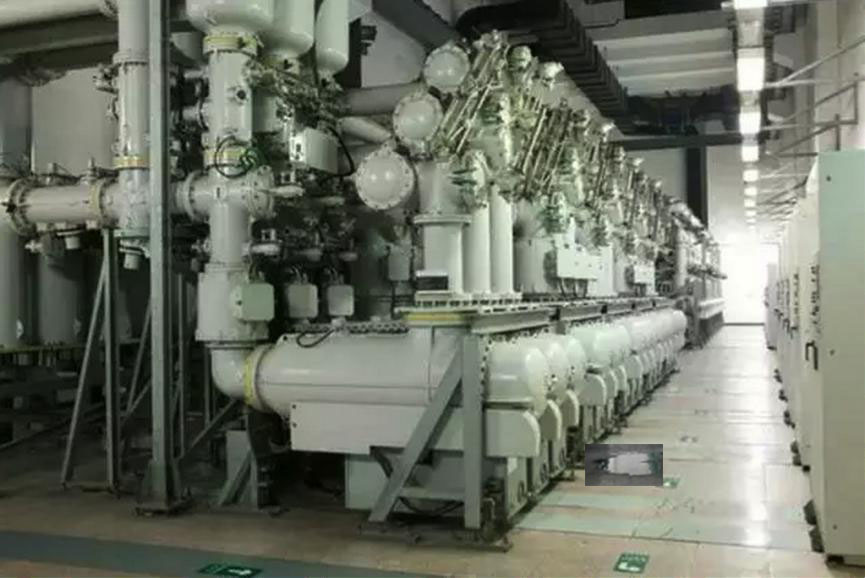oil: (585, 442, 664, 483)
